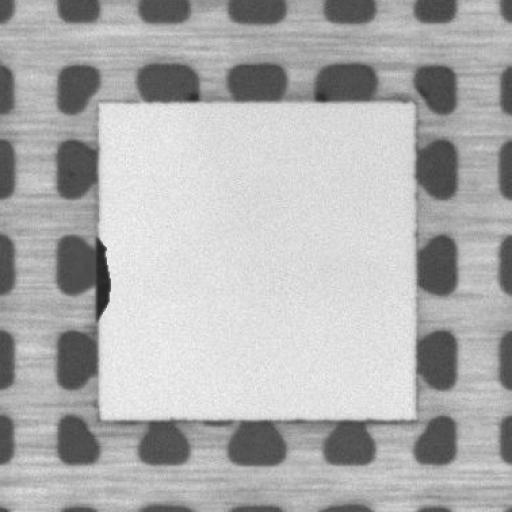DIE_BROKEN: (91, 233, 112, 320)
